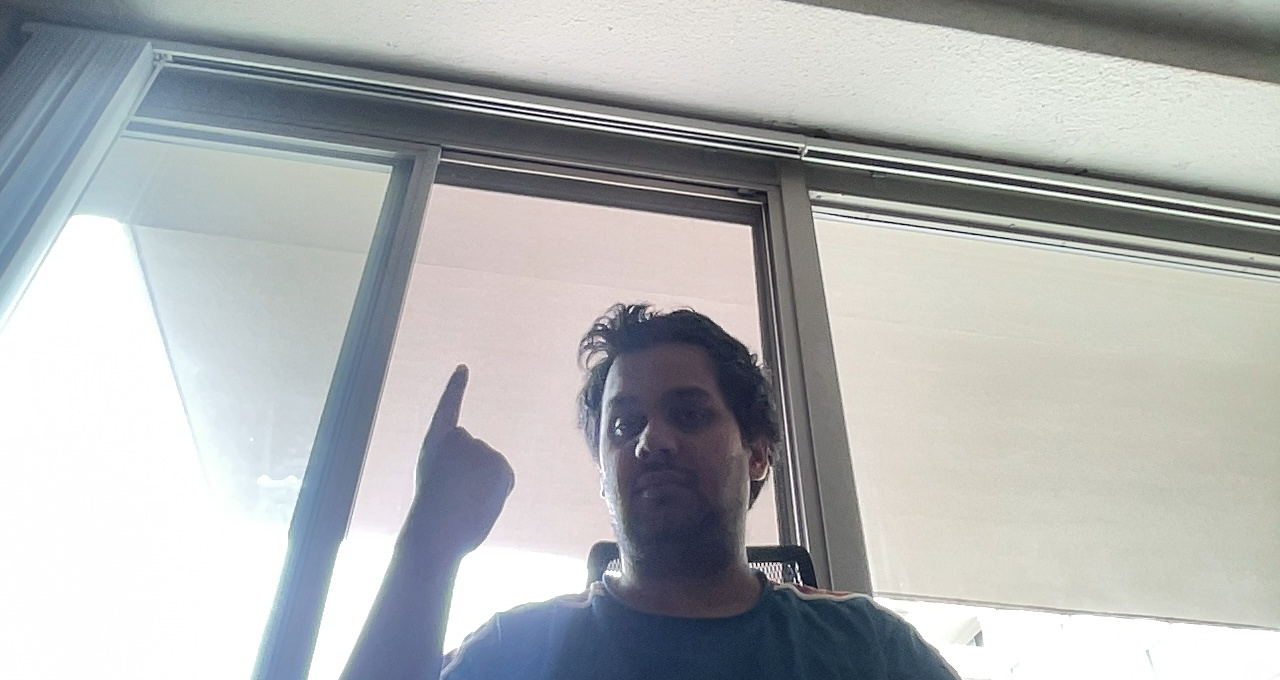fingerup: (411, 359, 525, 561)
